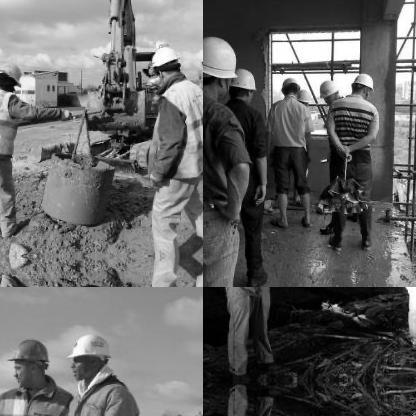Helmet: (2, 332, 53, 388), (203, 29, 240, 100), (65, 327, 111, 381), (228, 63, 260, 108), (150, 44, 180, 78), (350, 66, 374, 102), (318, 78, 340, 106), (0, 59, 21, 84), (280, 75, 298, 99), (295, 86, 311, 110)
